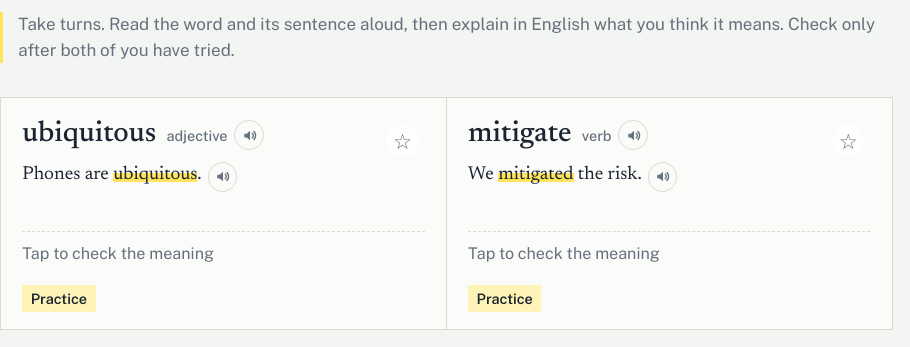
Test: VocabularyTab › shows the word and example but hides the definition until clicked
Expected: the element showing "Phones are ubiquitous." is shown, [22,162,237,192]
Expected: the text "present everywhere" is not shown
Click the text "ubiquitous" next to "adjective". click: (89, 135)
box: [22,119,156,151]
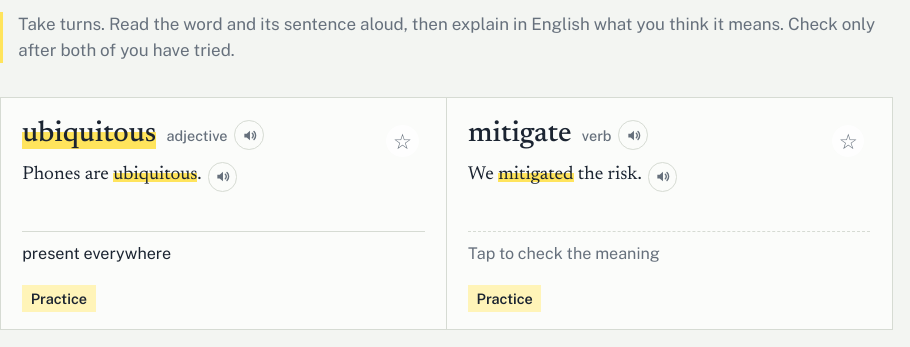
Expected: the button "present everywhere" is shown, [22,231,425,266]
